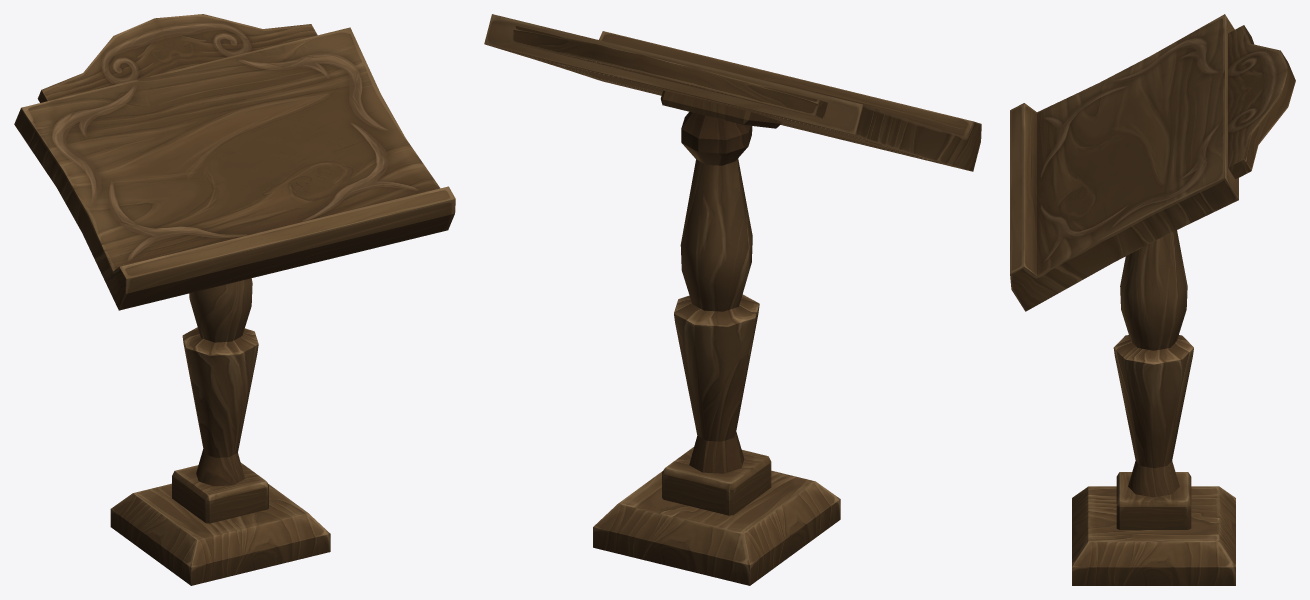
Rendered from Stand.FBX.
3 renders of one model, left to right at view 1: azimuth 30°, elevation 25°; view 2: azimuth 150°, elevation 25°; view 3: azimuth 270°, elevation 25°, orthographic. The views are drawn at different scales.
Parts seen in each view (by area): view 1: Stand; view 2: Stand; view 3: Stand.
Boxes of the visible parts, bbox=[...] form: Stand: bbox=[14, 14, 455, 585]; Stand: bbox=[484, 14, 981, 585]; Stand: bbox=[1010, 14, 1295, 585].
Bounding box in the file's own units: 946 × 1298 × 698.
